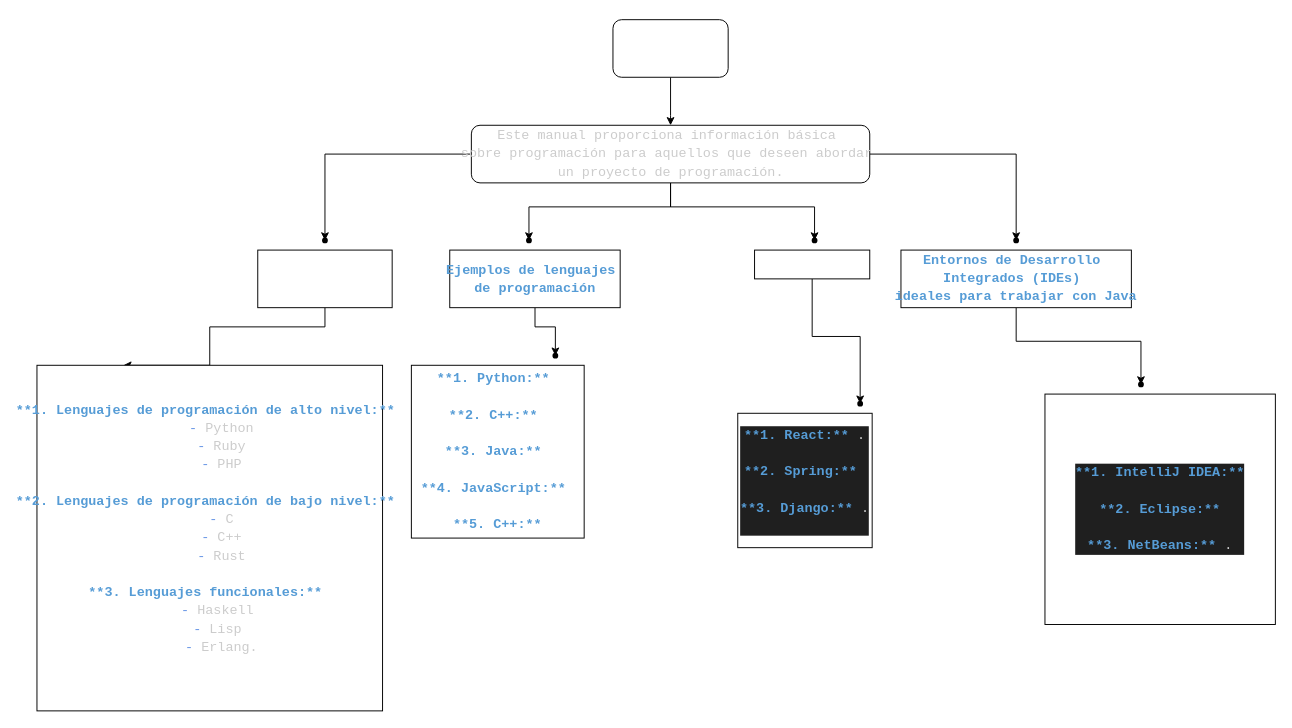
This 1292x728 diagram has some shape labels left out. Each missing label, with the centre of its shape:
"Frameworks" belongs at (x=812, y=264).
"Manual de programación" belongs at (x=670, y=48).
"Tipos de lenguajes de programación" belongs at (x=324, y=278).
